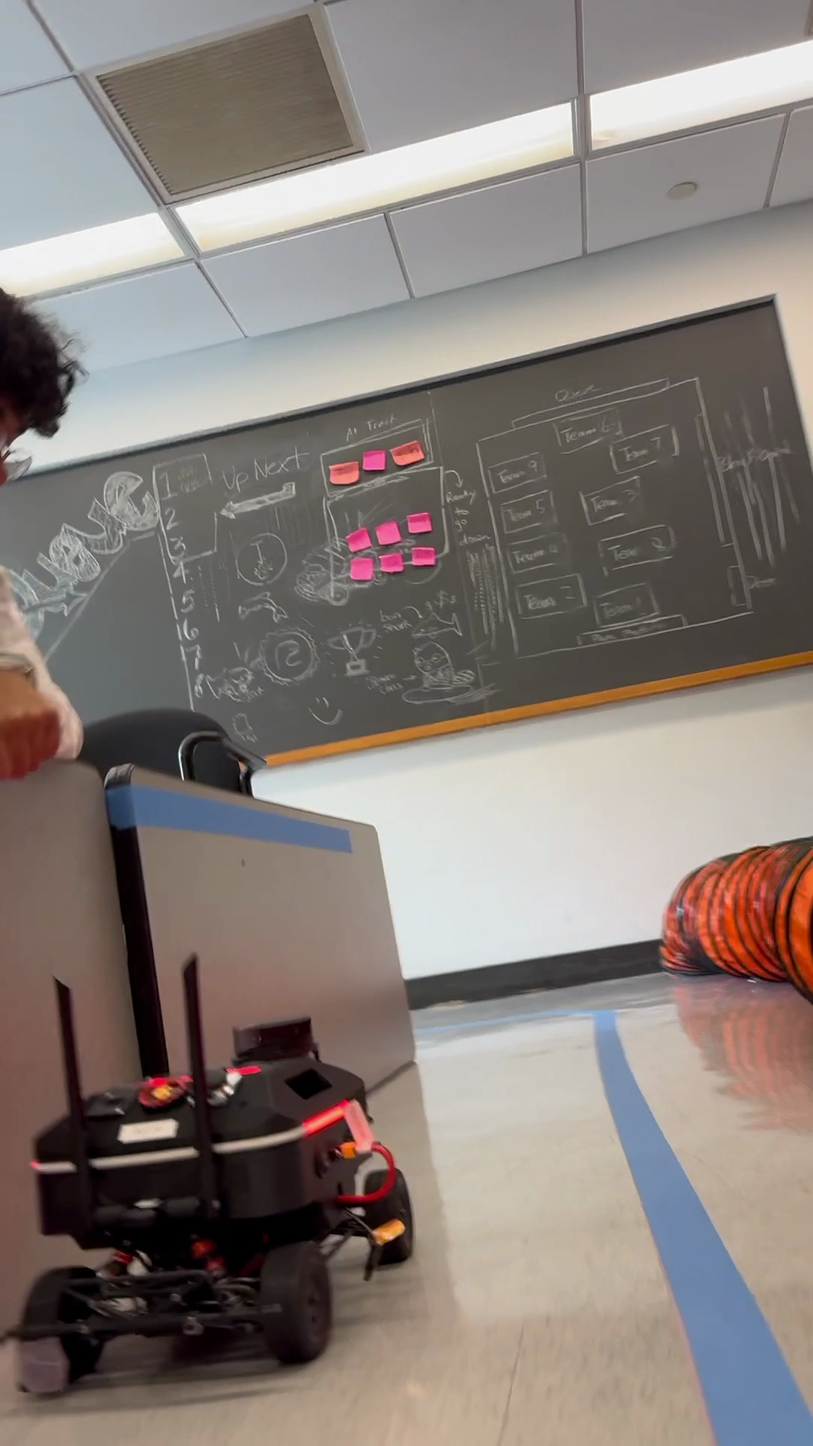racecar: (15, 952, 414, 1381)
